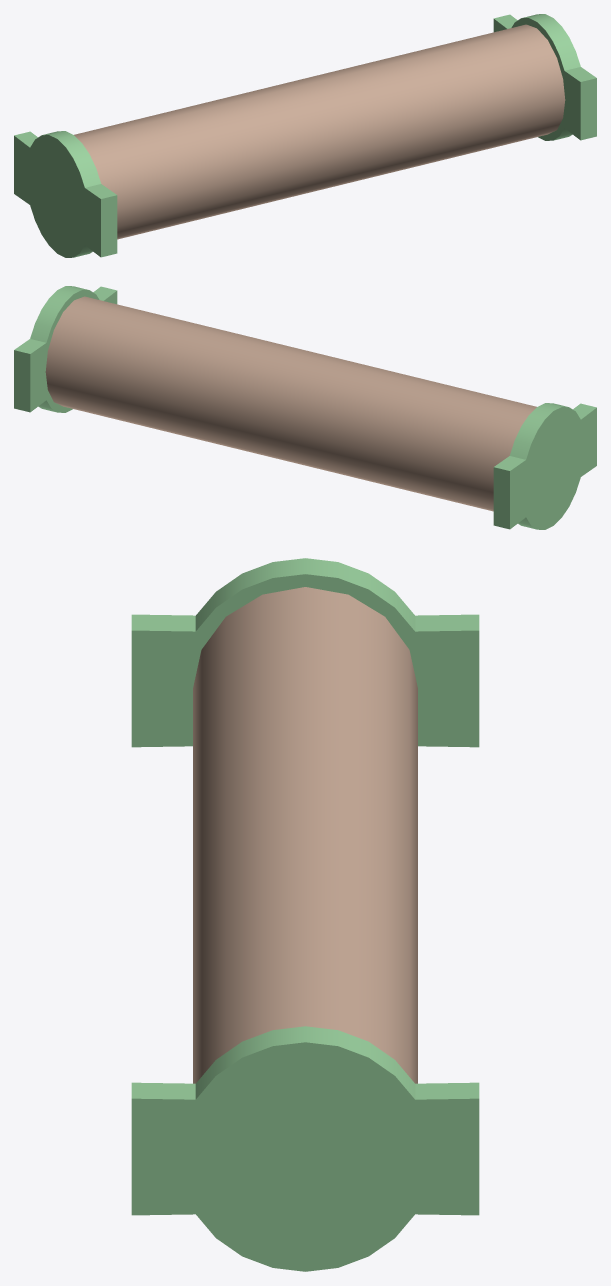
Rendered from Pipe_Small_02b_snaps020.FBX.
3 renders of one model, top to bottom at view 1: azimuth 30°, elevation 25°; view 2: azimuth 150°, elevation 25°; view 3: azimuth 270°, elevation 25°, orthographic. The views are drawn at different scales.
Visible parts, largest first — view 1: Pipe_Small_02b_snaps020_LOD0; view 2: Pipe_Small_02b_snaps020_LOD0; view 3: Pipe_Small_02b_snaps020_LOD0.
Boxes of the visible parts, x1,y1,x2,y2 form: Pipe_Small_02b_snaps020_LOD0: (14, 14, 596, 257); Pipe_Small_02b_snaps020_LOD0: (14, 286, 596, 529); Pipe_Small_02b_snaps020_LOD0: (131, 558, 479, 1271).
Size of what is drawn, in the model's own units: 0.5 by 0.1518 by 0.1106.
